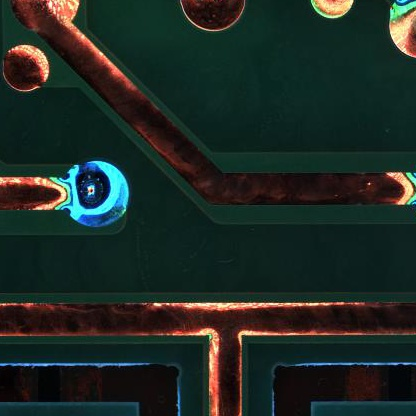spot: (64, 159, 132, 228)
